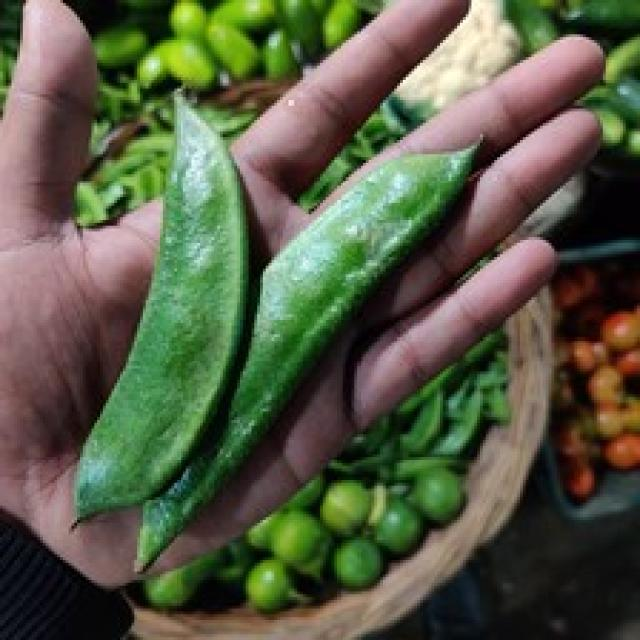Bean: (164, 126, 408, 524), (66, 77, 258, 524)
